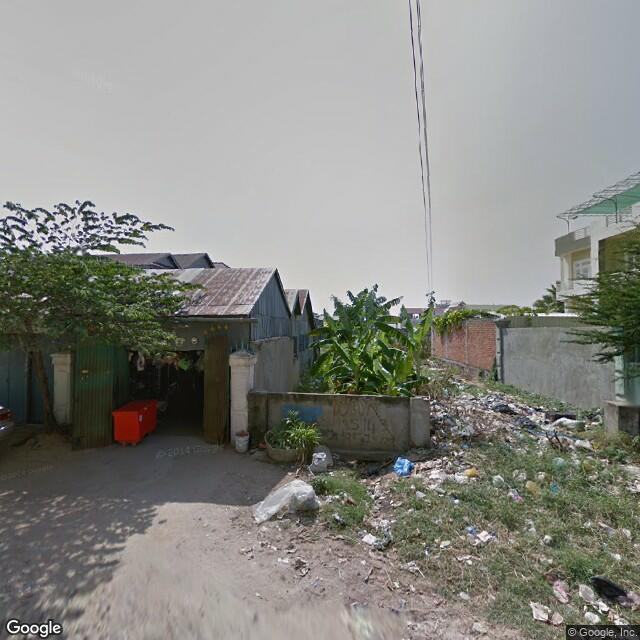litter: (453, 387, 585, 441), (239, 469, 340, 533), (521, 572, 624, 630), (387, 446, 419, 478), (282, 552, 317, 581), (460, 522, 497, 548), (355, 523, 379, 552), (505, 484, 529, 508)
